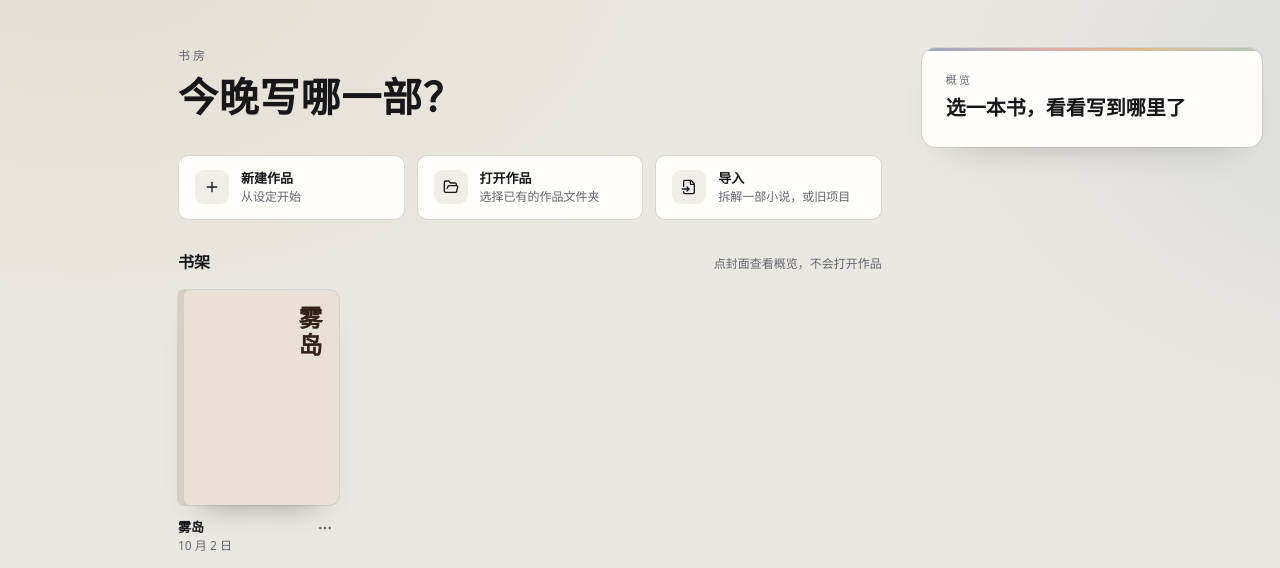
Test: 书房 › 设定必填齐了的书，预览里设定是完成，与打开后一致
This screenshot has width=1280, height=568.
What coordinates should you click on to do the following:
click the button "雾岛"
I would click on:
 (258, 397)
Its box is [178,290,339,504].
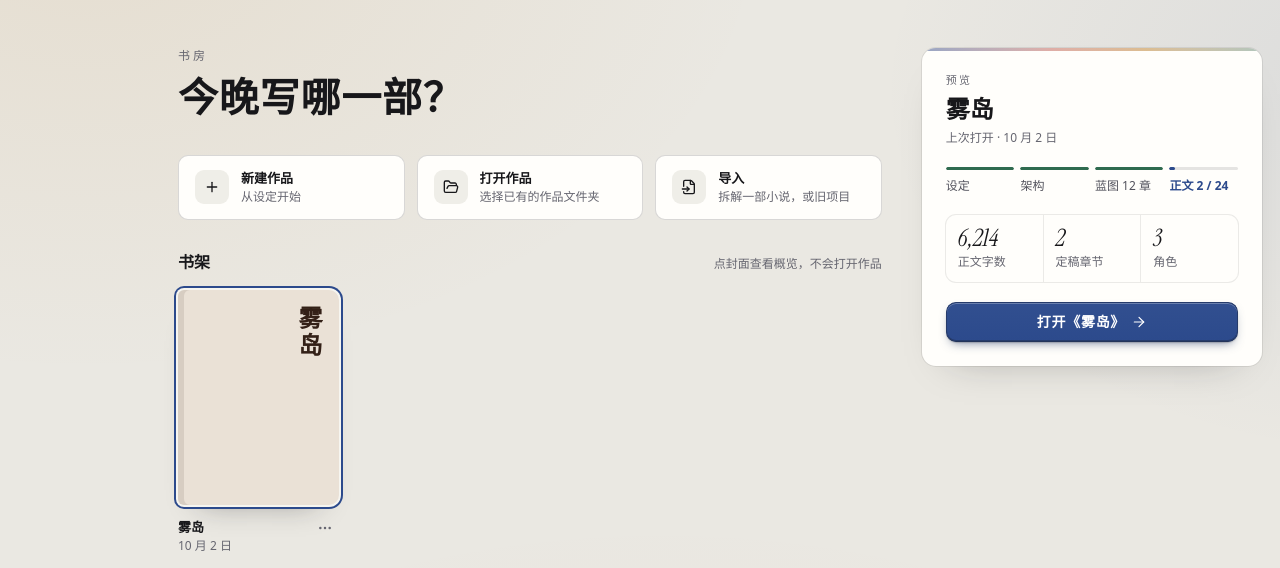
expect the list item "设定" is shown: met, box [946,167,1014,195]
